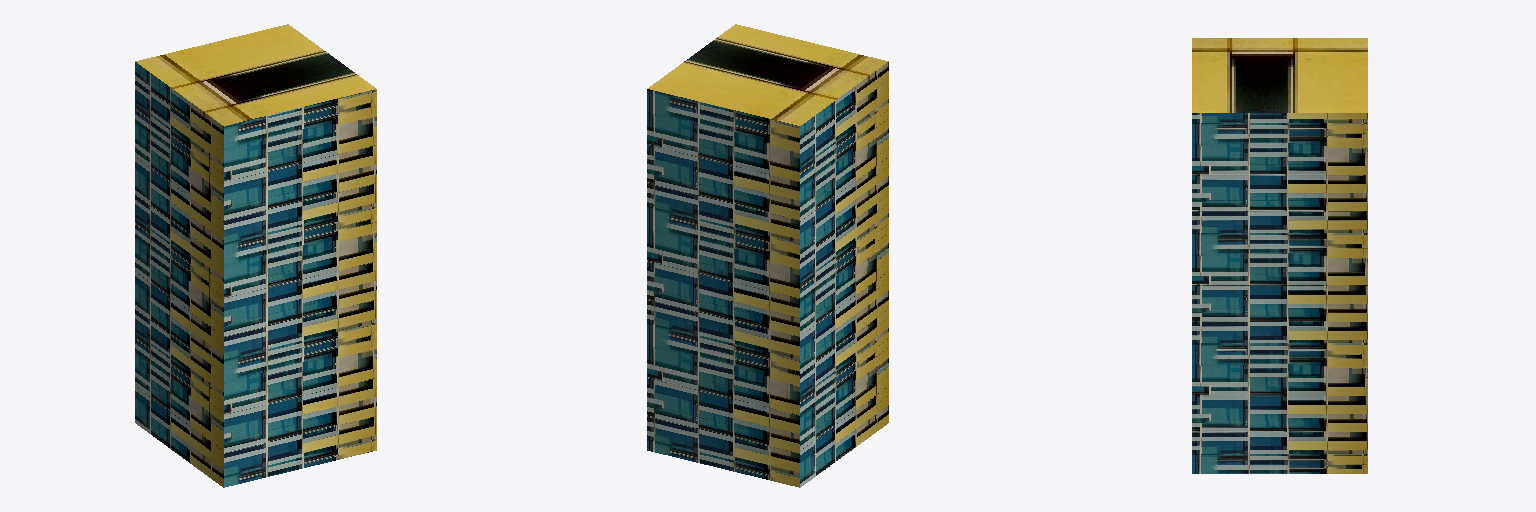
3 views of the same model, side by side, from view 1: azimuth 30°, elevation 25°; view 2: azimuth 150°, elevation 25°; view 3: azimuth 270°, elevation 25° (orthographic).
Parts seen in each view (by area): view 1: Cube; view 2: Cube; view 3: Cube.
Part boxes in pixels (left/top/right/bottom): Cube: left=135, top=24, right=376, bottom=487; Cube: left=647, top=24, right=888, bottom=487; Cube: left=1192, top=38, right=1367, bottom=473.
Bounding box in the file's own units: 9.69 × 21.86 × 9.69.
1 materials, 1 textured.